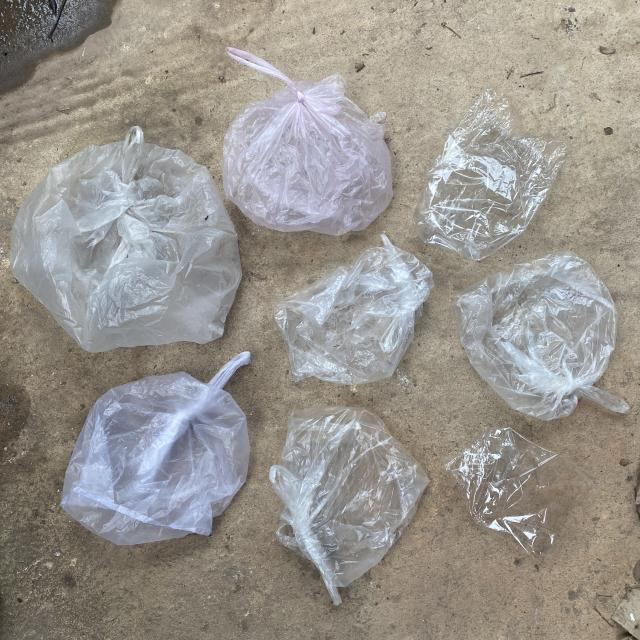Single-layer Plastic: (11, 126, 241, 352), (61, 351, 250, 545), (222, 48, 392, 235), (270, 406, 429, 605), (454, 251, 629, 420), (414, 89, 569, 260), (275, 235, 434, 385), (444, 428, 595, 555)
